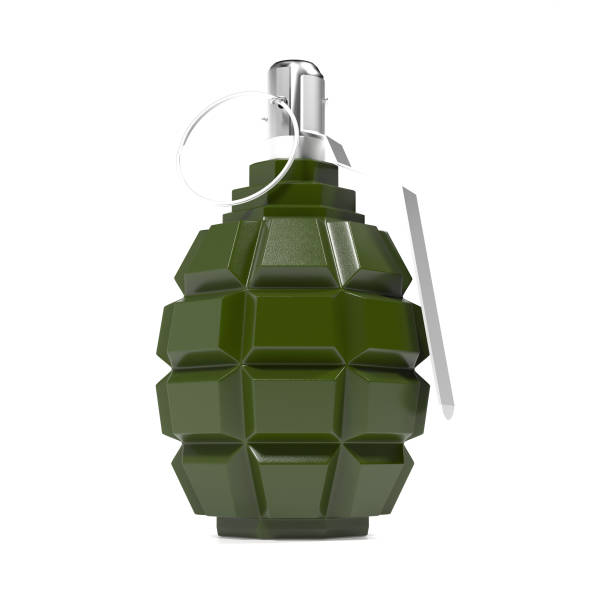e1: (159, 60, 430, 543)
